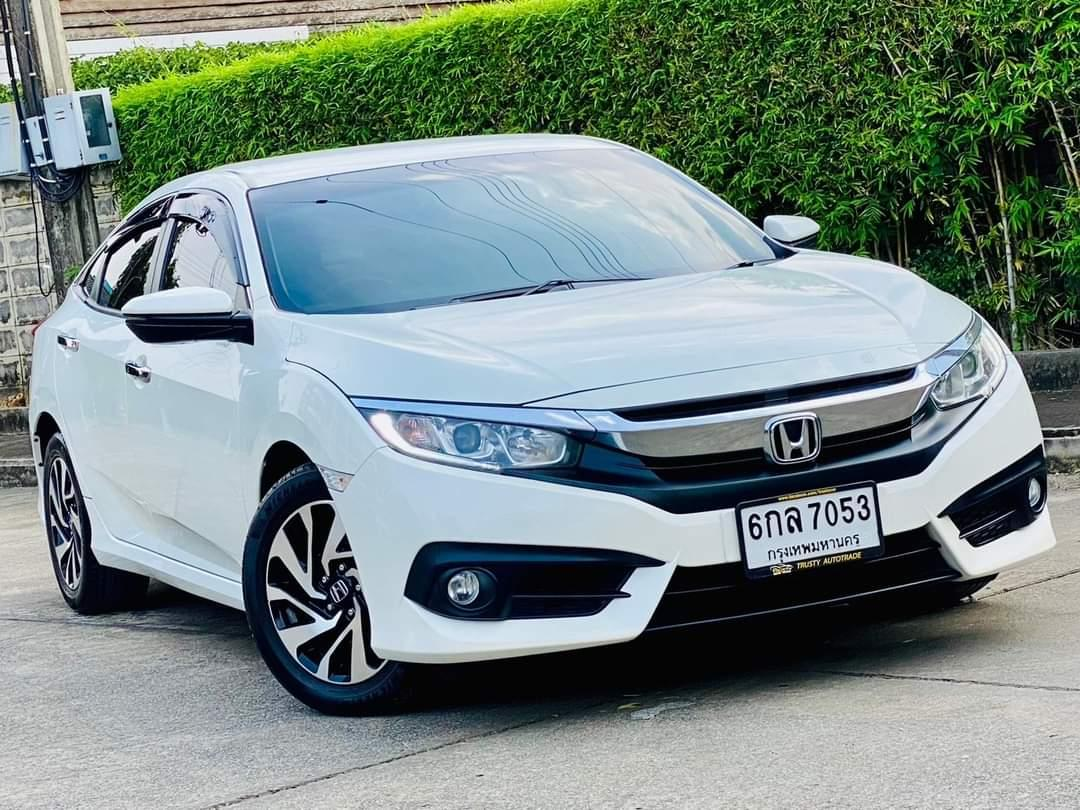license-plate: (733, 474, 890, 583)
